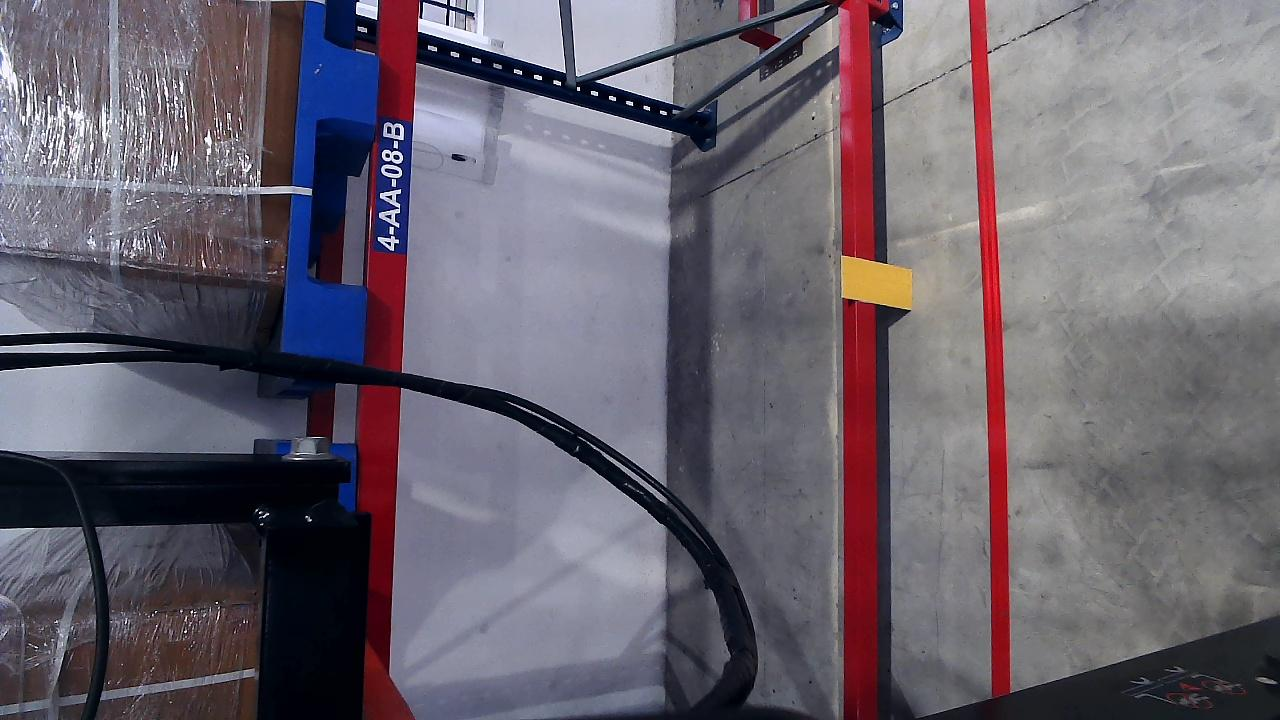h_rack: (360, 1, 425, 503), (839, 2, 883, 716)
orange_strip: (839, 256, 914, 310)
red_line: (966, 0, 1011, 689)
small_pallet: (278, 1, 374, 365)
